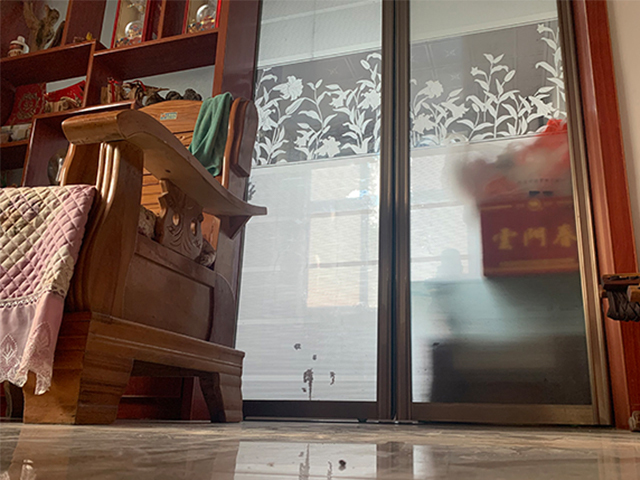sofa: (1, 90, 269, 425)
